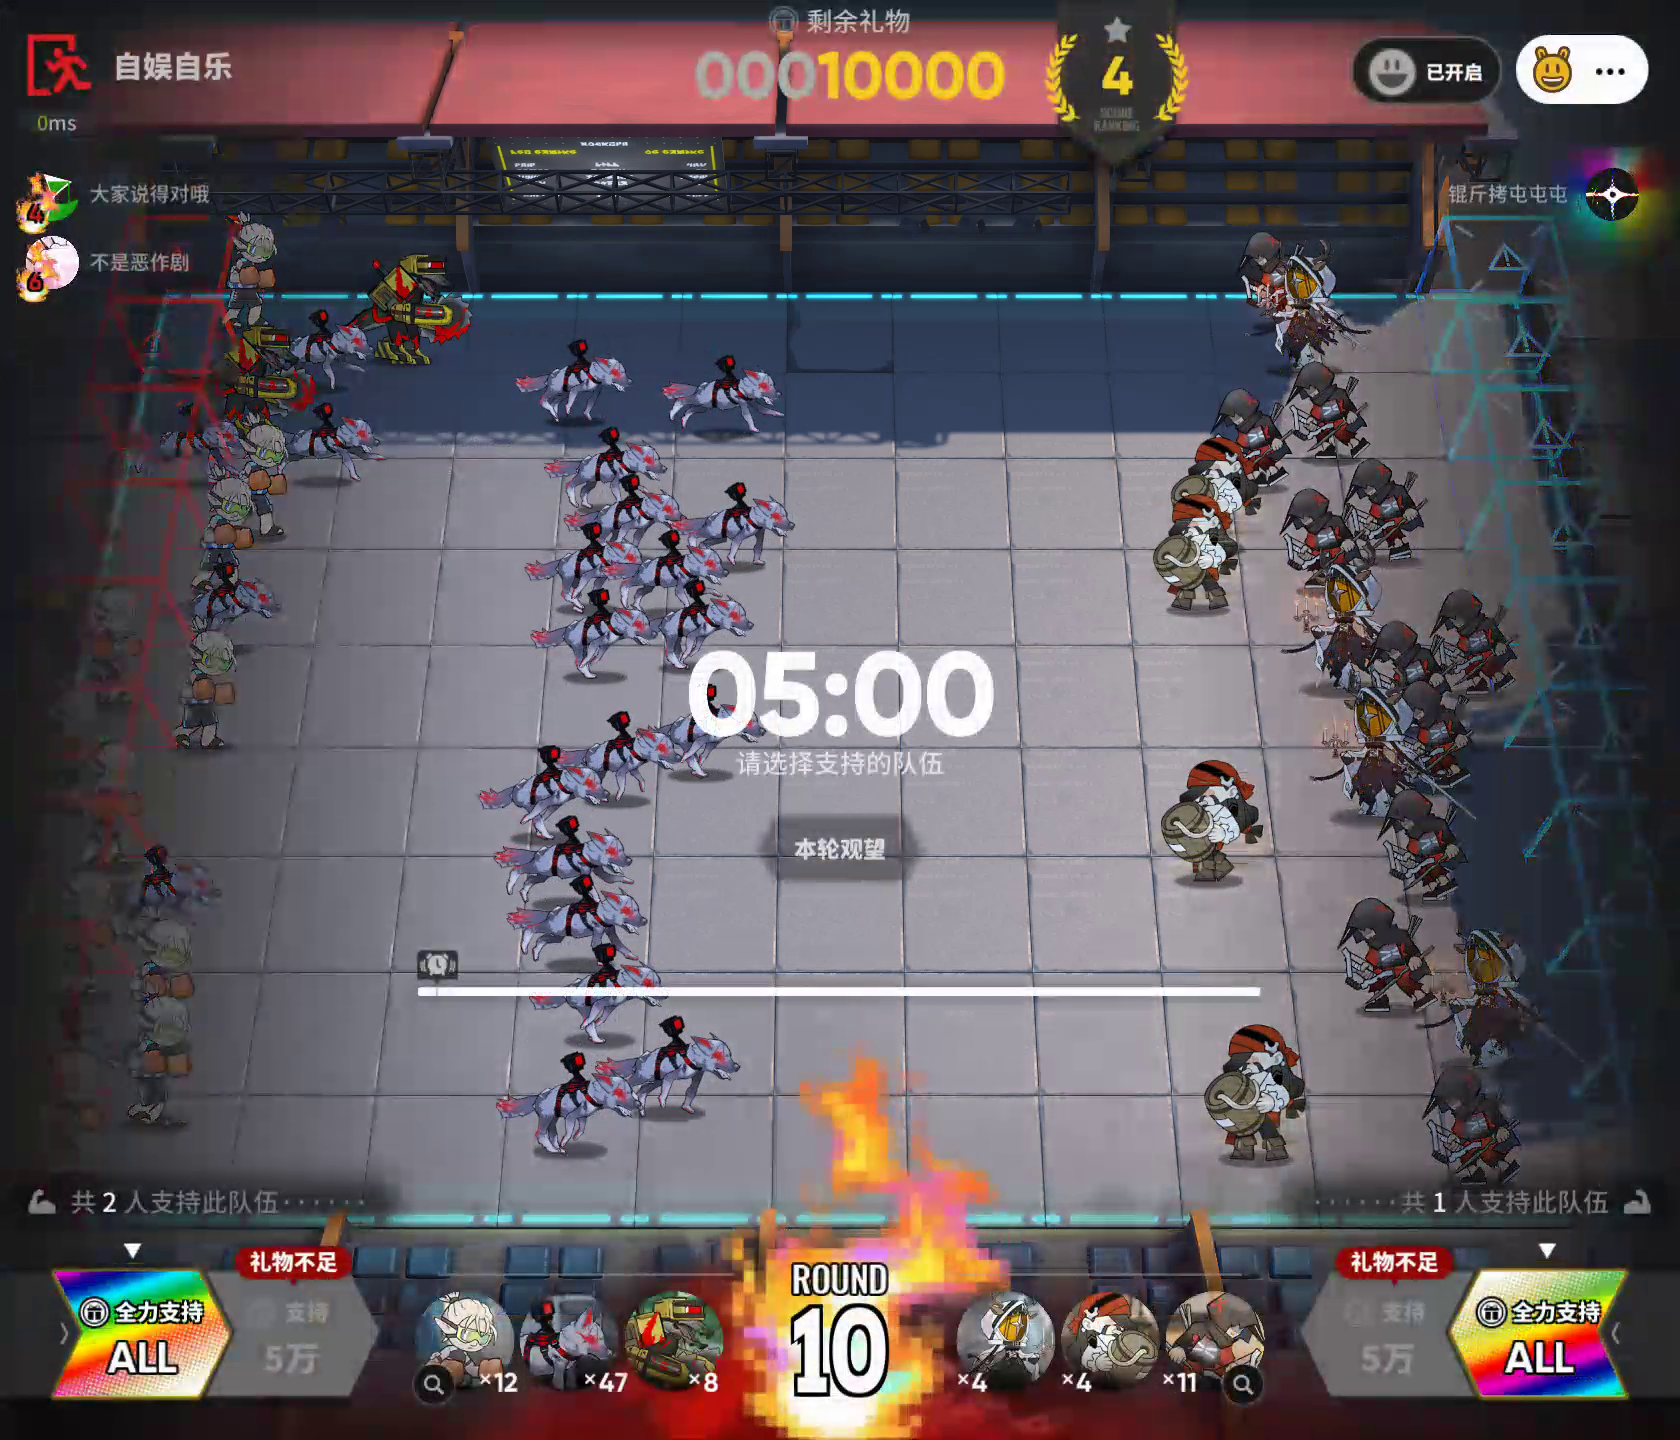假酒海盗: (1190, 1009, 1314, 1167), (1159, 756, 1270, 887), (1140, 483, 1241, 617), (1059, 1287, 1160, 1391), (1169, 431, 1269, 534)
拳击宗师: (36, 1041, 120, 1179), (164, 614, 249, 751), (413, 1290, 519, 1391), (124, 990, 201, 1129), (74, 566, 149, 704), (34, 670, 103, 816), (40, 881, 113, 1009), (216, 206, 284, 333), (129, 901, 206, 1011), (87, 727, 146, 863), (233, 411, 294, 537), (197, 461, 251, 574)
机鳄战甲: (339, 244, 474, 373), (187, 327, 321, 434), (621, 1289, 727, 1394)
点灯骑士: (1411, 920, 1580, 1073), (1306, 681, 1439, 821), (1249, 241, 1374, 383), (1294, 550, 1403, 703), (953, 1284, 1059, 1387)
狗Pro: (484, 1039, 646, 1159), (584, 1006, 747, 1119), (521, 941, 681, 1047), (501, 871, 653, 976), (479, 740, 610, 846), (529, 583, 664, 683), (651, 674, 774, 776), (571, 703, 683, 814), (494, 817, 649, 897), (659, 341, 793, 433), (646, 580, 769, 674), (673, 474, 796, 569), (519, 521, 646, 611), (539, 426, 670, 510), (514, 337, 631, 426), (517, 1294, 620, 1394), (121, 839, 236, 923), (133, 403, 246, 486), (274, 307, 383, 390), (571, 473, 681, 554), (184, 556, 290, 640), (274, 401, 379, 486), (631, 530, 729, 611)
衣架射手: (1416, 1059, 1534, 1194), (1323, 893, 1444, 1014), (1374, 786, 1484, 911), (1274, 354, 1381, 466), (1279, 479, 1377, 587), (1166, 1286, 1269, 1389), (1434, 581, 1526, 696), (1339, 451, 1430, 561), (1209, 373, 1290, 486), (1399, 677, 1477, 790), (1371, 616, 1459, 711), (1237, 220, 1304, 319)
